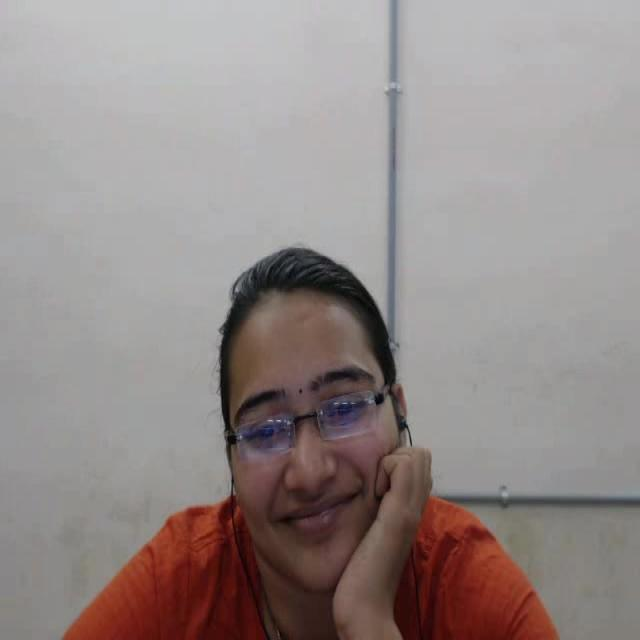Bored: (166, 231, 458, 640)
